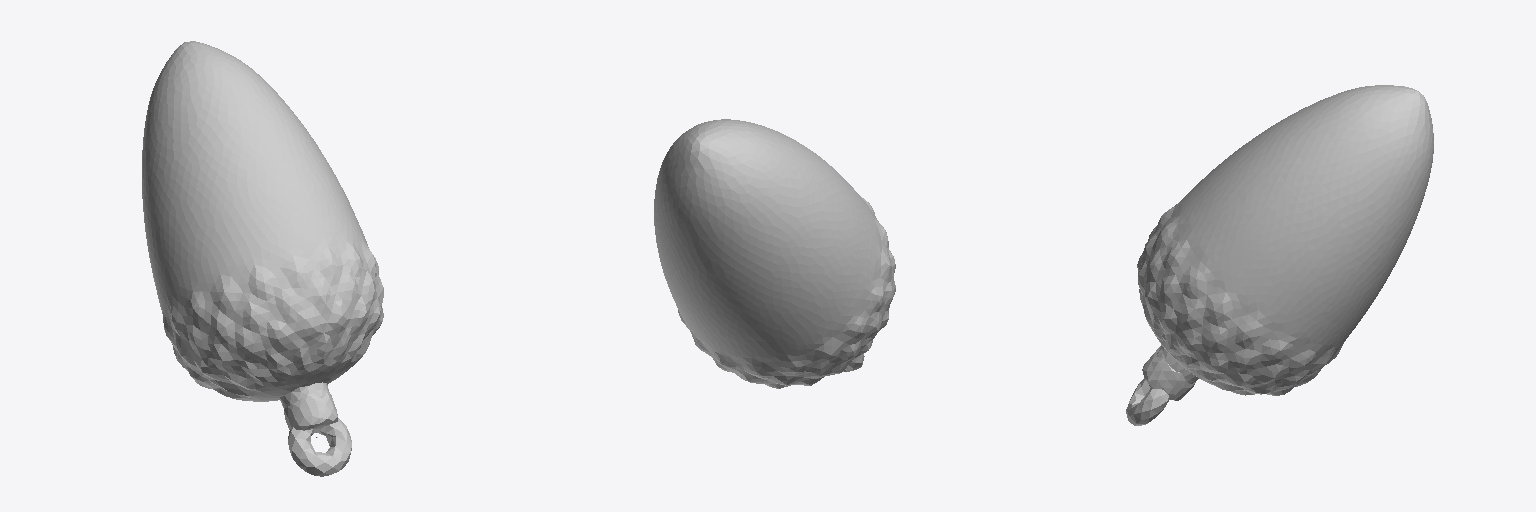
The model's file is pinecone_flipped.obj.
3 renders of one model, left to right at view 1: azimuth 30°, elevation 25°; view 2: azimuth 150°, elevation 25°; view 3: azimuth 270°, elevation 25°, orthographic.
Parts seen in each view (by area): view 1: _12163_Ornament_glass_part, default, _12163_Ornament_metal_part; view 2: _12163_Ornament_glass_part; view 3: _12163_Ornament_glass_part, _12163_Ornament_metal_part, default.
Boxes of the visible parts, x1=… form: _12163_Ornament_glass_part: x1=142, y1=41, x2=383, y2=408; default: x1=288, y1=418, x2=351, y2=476; _12163_Ornament_metal_part: x1=284, y1=392, x2=337, y2=437; _12163_Ornament_glass_part: x1=654, y1=119, x2=895, y2=388; _12163_Ornament_glass_part: x1=1137, y1=85, x2=1433, y2=395; _12163_Ornament_metal_part: x1=1142, y1=345, x2=1195, y2=400; default: x1=1126, y1=379, x2=1169, y2=425.
Size of the model in its own units: 4.21 by 6.91 by 5.78.